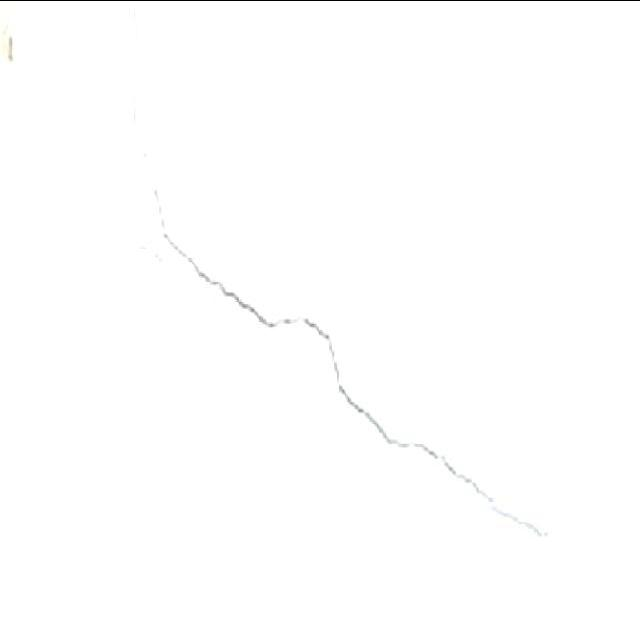SurfaceCrack: (116, 134, 560, 558)
